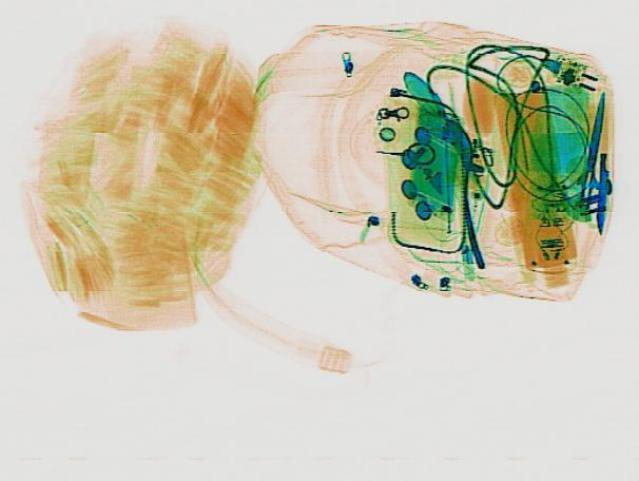Knife: (579, 91, 603, 203), (593, 151, 610, 234)
